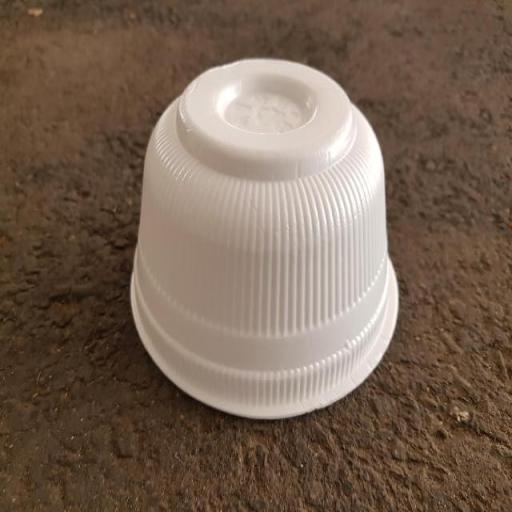styrofoam: (130, 59, 398, 416)
